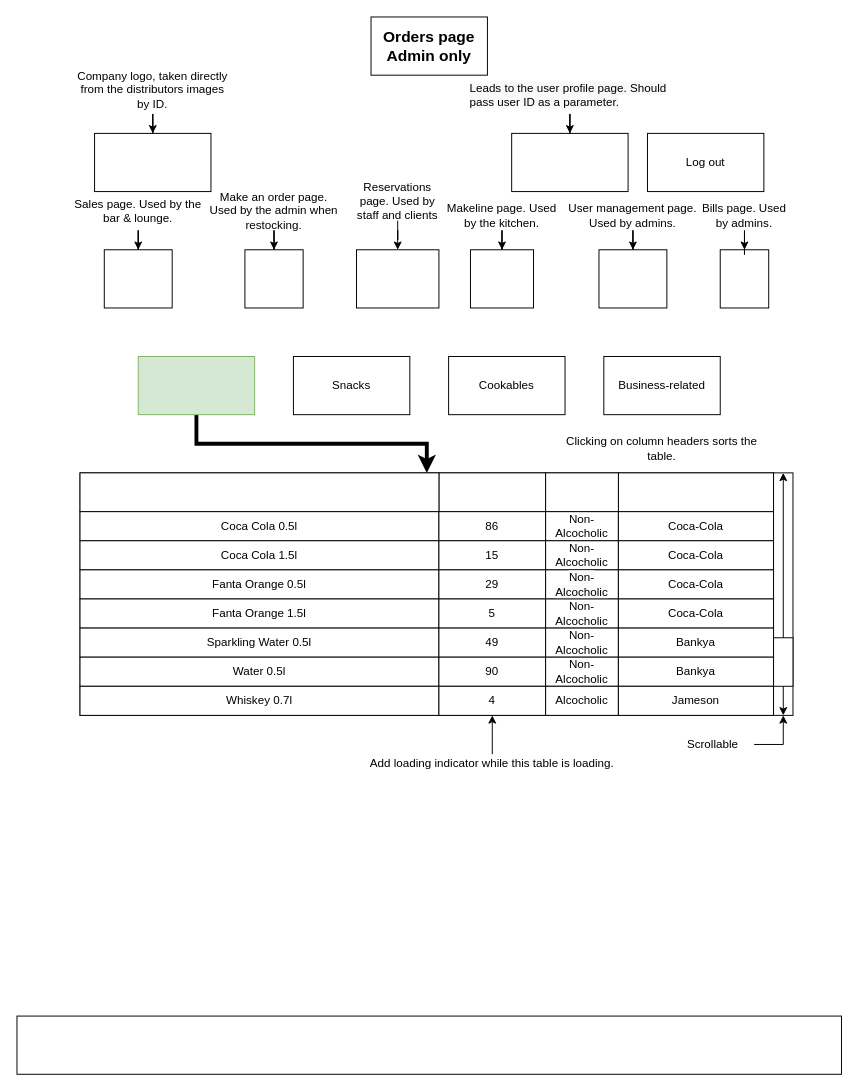
Image size: 858x1091. Some labels were removed from this diagram. The shapes that lost their labels are listed below. From the top down, each one's centre as x and y in pixels, then its label:
At point 152,162: "Logo".
At point 569,162: "Profile".
At point 137,278: "Sell".
At point 273,278: "Make an Order".
At point 397,278: "Reservations".
At point 501,278: "Makeline".
At point 632,278: "Users".
At point 744,278: "Bills".
At point 196,385: "Beverages".
At point 259,492: "Product name".
At point 492,492: "Quantity in DB".
At point 581,492: "Type".
At point 695,492: "Distributor".
At point 428,1044: "Footer. Telephone number, email, Facebook page. Trademark. Language change.".
